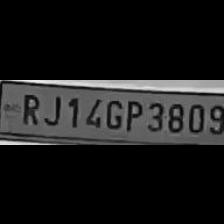0: (184, 100, 206, 132)
1: (62, 92, 80, 128)
3: (142, 97, 164, 133)
4: (82, 94, 102, 128)
8: (164, 97, 186, 132)
9: (204, 99, 222, 134)
G: (104, 96, 122, 128)
J: (40, 90, 61, 126)
P: (122, 95, 142, 131)
R: (17, 90, 41, 124)
